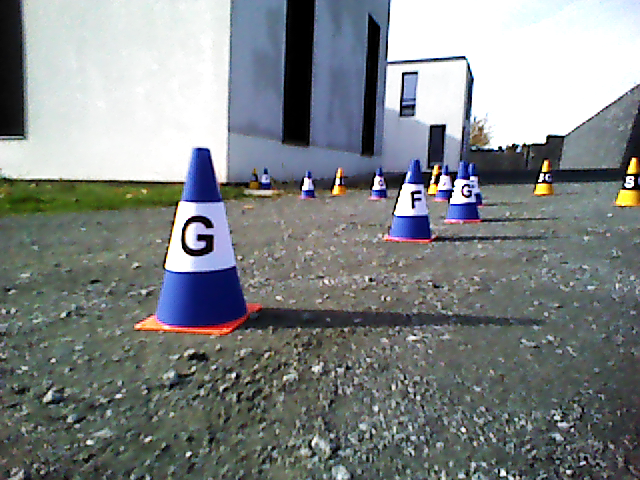bluecone: (157, 147, 243, 318), (390, 159, 431, 236), (447, 162, 478, 219), (371, 168, 389, 197), (439, 165, 453, 198), (301, 172, 316, 198)
yellowcone: (618, 157, 640, 204), (534, 160, 553, 194), (334, 168, 345, 195), (428, 165, 437, 194)
